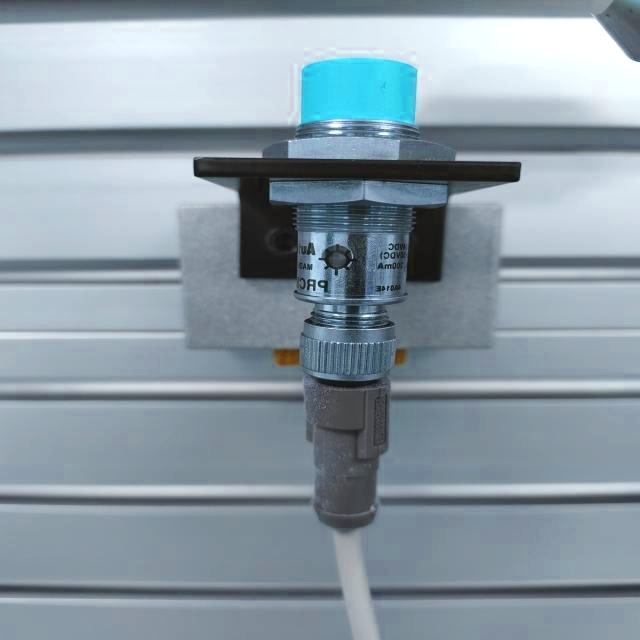inductive sensor: (162, 50, 525, 540)
